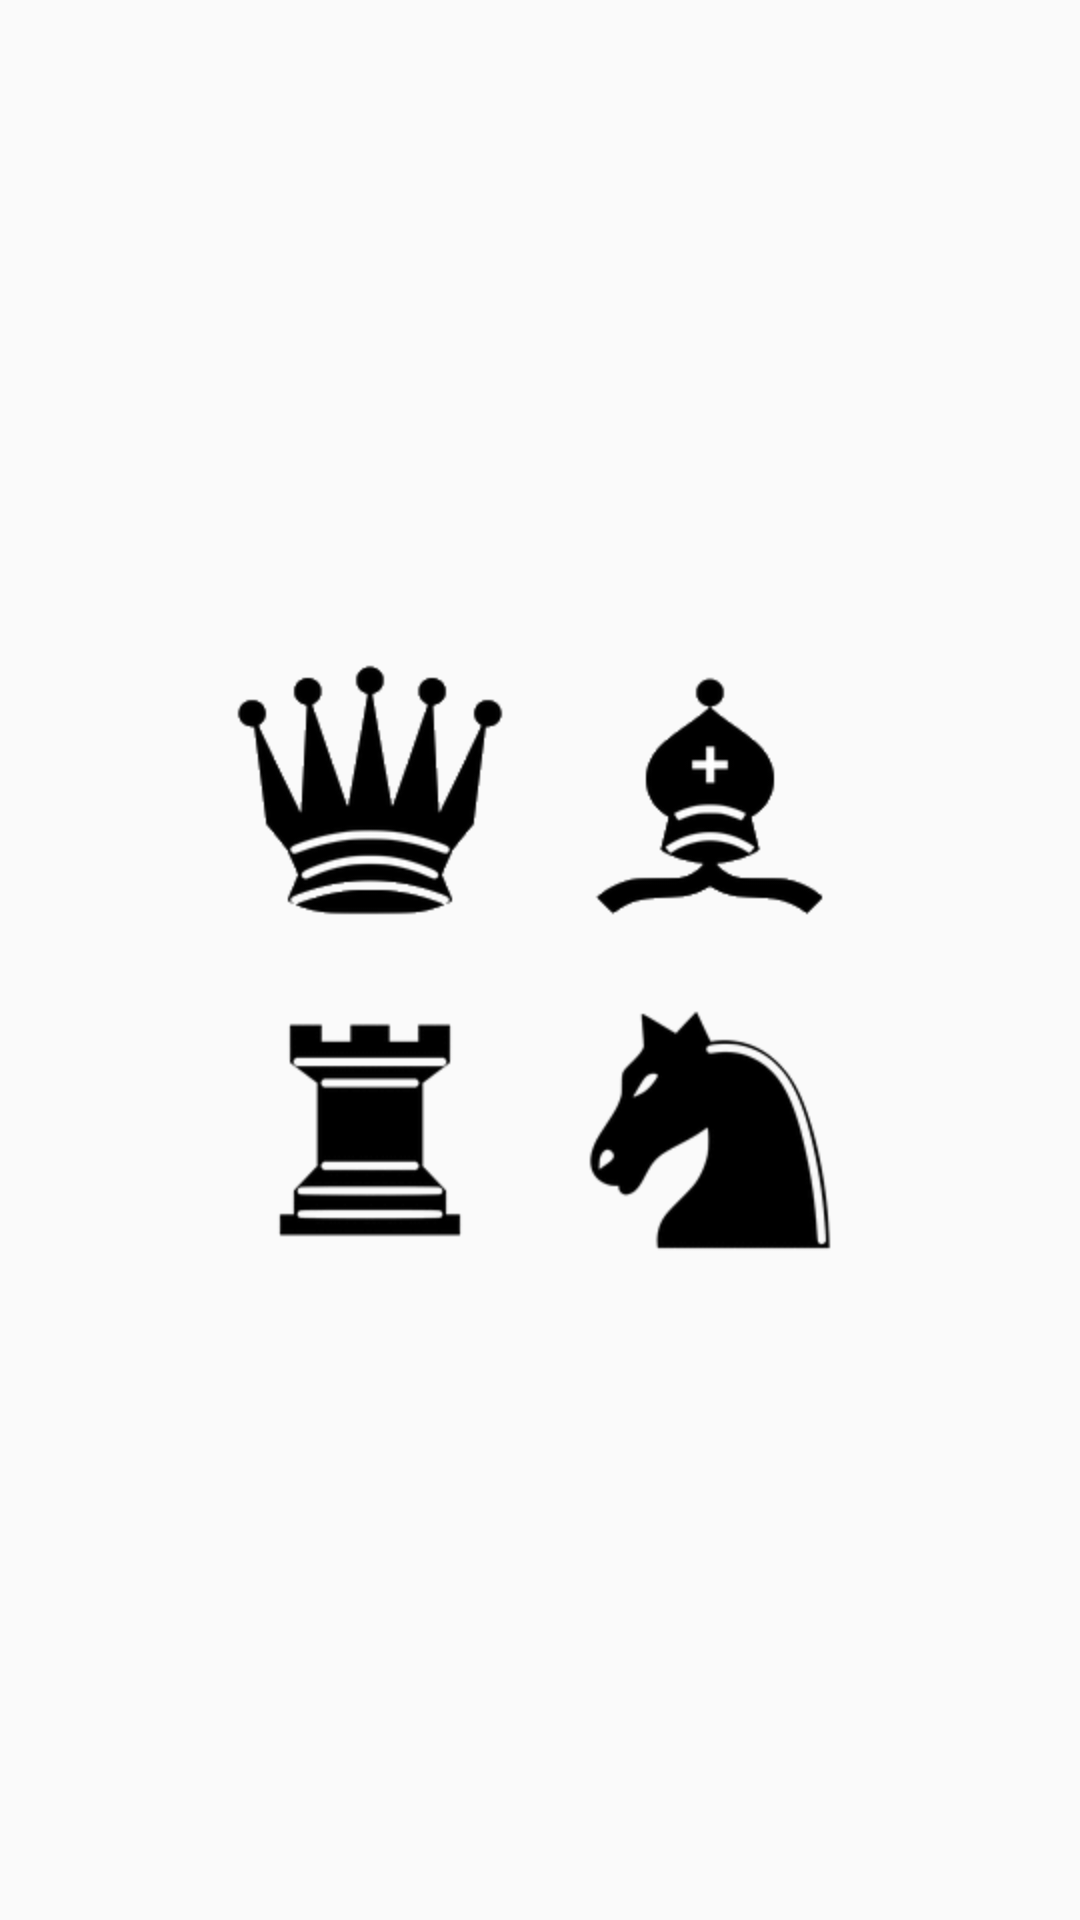

Icon bounding boxes for this 1080x1920 phone screenshot, format (x1=x1, y1=y1, x2=x2, y2=y2):
noir cavalierpromotion: (x1=589, y1=1011, x2=831, y2=1249)
noir foupromotion: (x1=596, y1=677, x2=823, y2=915)
noir reinepromotion: (x1=237, y1=665, x2=503, y2=915)
noir tourpromotion: (x1=279, y1=1023, x2=461, y2=1237)
